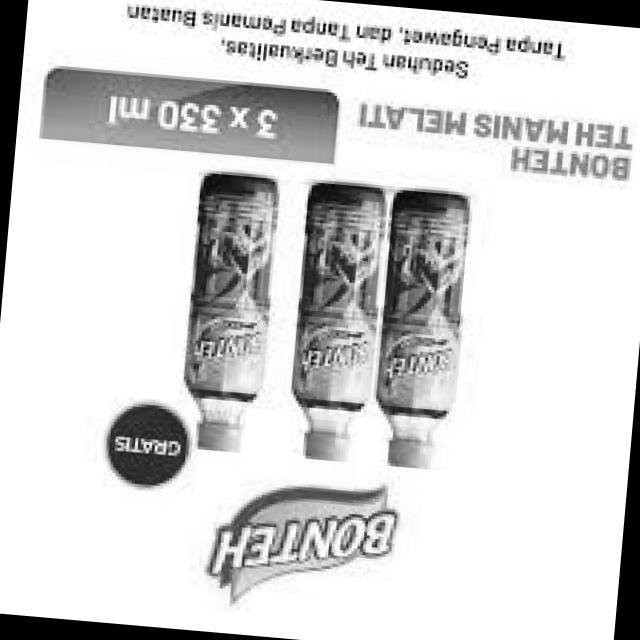good: (358, 177, 482, 478), (276, 172, 391, 474), (171, 162, 280, 462)
